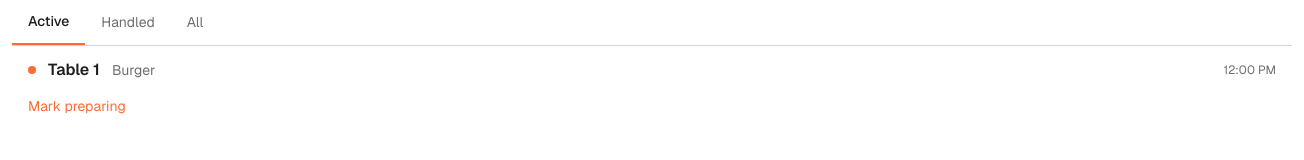
it: OrderFeed › handleAdvance › rolls back on UPDATE_FAILED and shows retry message
Click the button "Mark preparing".
click(77, 110)  # box [12, 96, 142, 124]
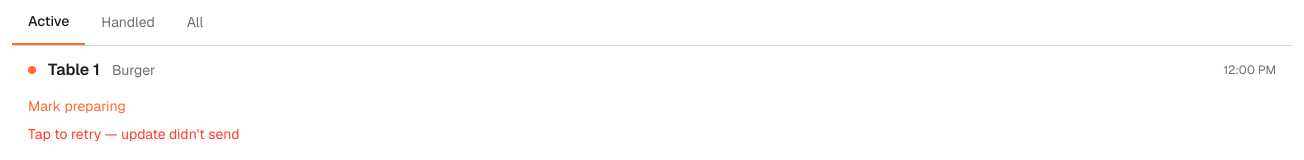
Check: the message shows "update didn't send", box [28, 125, 240, 143]
